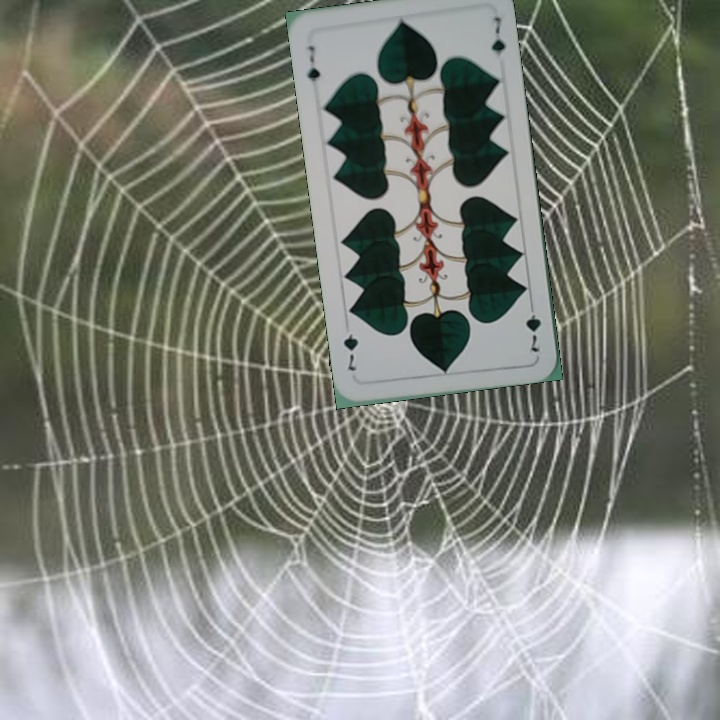G7: (522, 297, 544, 355), (303, 42, 323, 85)
